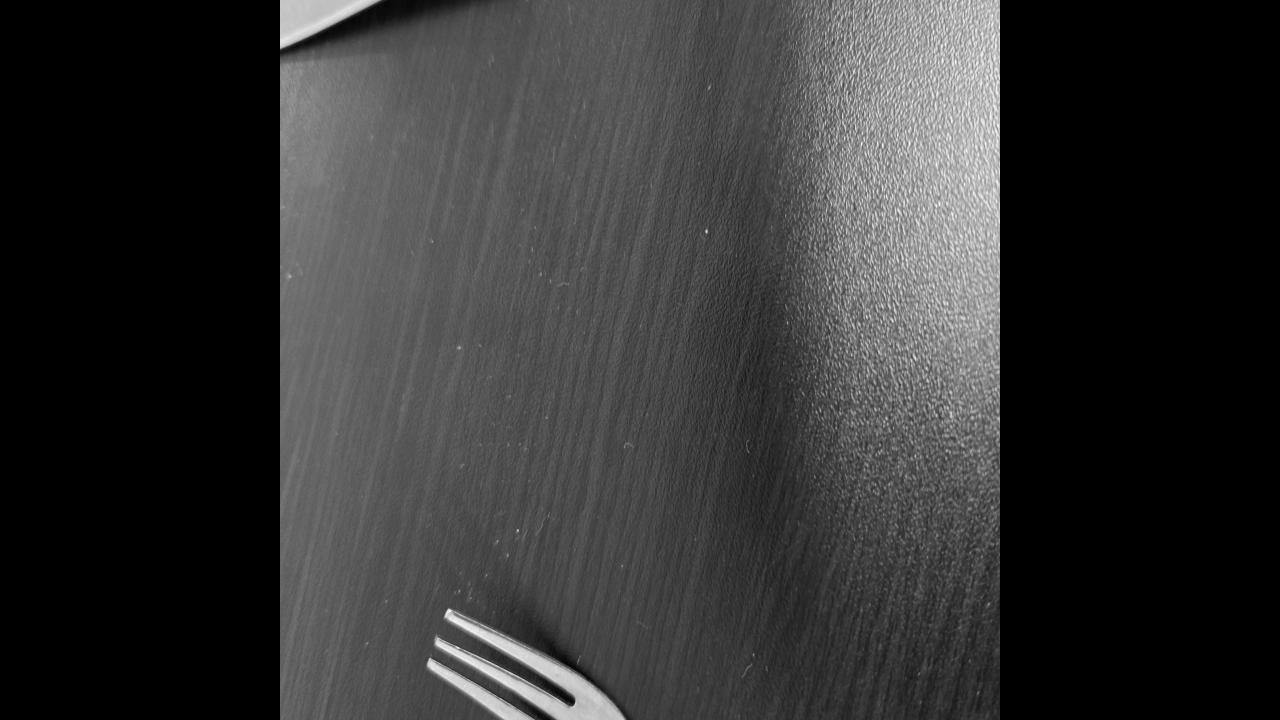fork: (429, 598, 982, 720), (280, 0, 892, 95)
